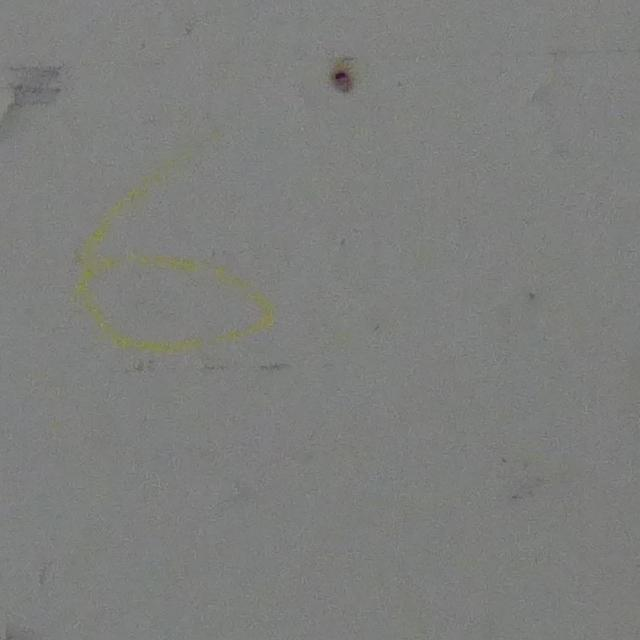Rust: (334, 70, 347, 81)
